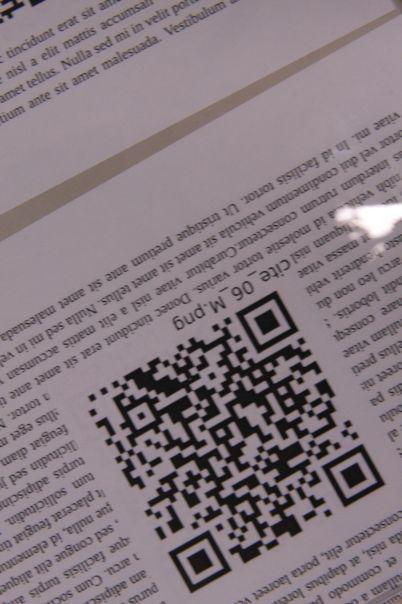Finder pattern: (233, 289, 305, 350), (320, 442, 387, 507), (172, 527, 234, 592)
